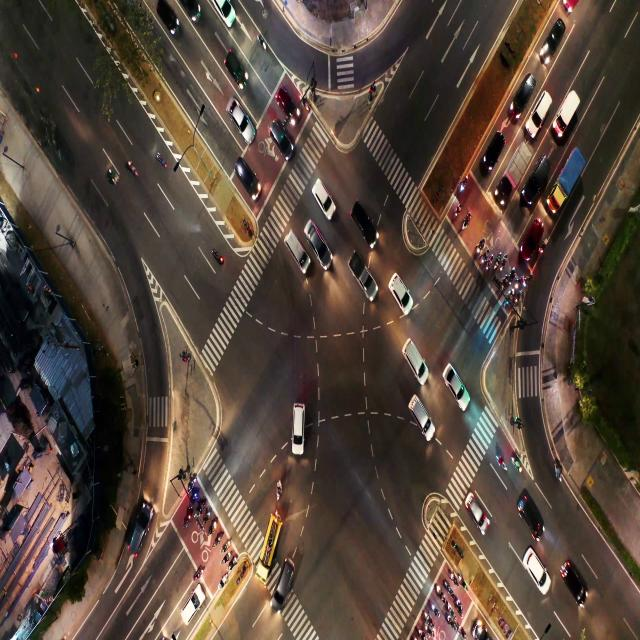bus: (263, 534, 272, 555)
car: (566, 565, 580, 593), (527, 556, 543, 580), (130, 521, 144, 548), (360, 211, 374, 237), (412, 401, 428, 423), (228, 52, 242, 77), (292, 414, 304, 442), (283, 94, 298, 116), (451, 368, 462, 398), (467, 497, 481, 518), (187, 595, 199, 618), (184, 0, 198, 19), (162, 7, 175, 27), (232, 102, 244, 122), (218, 0, 232, 17), (275, 124, 286, 144), (489, 141, 499, 162), (240, 164, 252, 181), (528, 226, 536, 249), (524, 502, 534, 520), (552, 26, 561, 46), (293, 236, 300, 261), (280, 568, 288, 589), (410, 348, 418, 369), (315, 184, 324, 200), (394, 278, 402, 296), (311, 233, 321, 247), (535, 171, 542, 188), (538, 106, 544, 122), (521, 87, 529, 97)
motorcycle: (211, 244, 225, 268), (257, 32, 267, 52), (128, 161, 138, 177), (158, 154, 168, 169), (553, 462, 561, 478), (302, 96, 310, 110), (514, 459, 522, 473), (109, 171, 118, 183), (277, 482, 282, 503), (218, 576, 226, 588), (496, 458, 503, 468), (190, 477, 196, 488), (460, 180, 466, 190), (416, 625, 422, 635), (458, 574, 464, 583), (435, 586, 441, 594), (430, 603, 436, 611), (424, 612, 430, 620), (210, 524, 215, 533), (445, 582, 450, 591), (454, 207, 458, 218), (463, 218, 467, 229), (502, 279, 506, 290), (184, 517, 189, 525), (215, 535, 220, 543), (224, 554, 229, 562), (494, 262, 498, 272), (540, 244, 544, 254), (192, 495, 196, 504), (230, 559, 235, 566), (458, 599, 461, 610), (204, 513, 208, 521), (476, 245, 480, 253), (499, 265, 503, 273), (508, 277, 512, 285), (508, 294, 512, 302), (448, 604, 452, 612), (426, 624, 430, 632), (195, 572, 200, 578), (460, 624, 463, 634), (514, 297, 518, 304), (481, 256, 484, 265), (224, 542, 228, 548), (447, 616, 451, 622), (199, 504, 202, 511), (524, 280, 527, 287), (451, 572, 454, 579), (515, 282, 518, 288), (487, 262, 489, 270)
truck: (560, 161, 576, 196), (514, 155, 524, 178), (356, 268, 366, 288), (561, 104, 571, 122)
